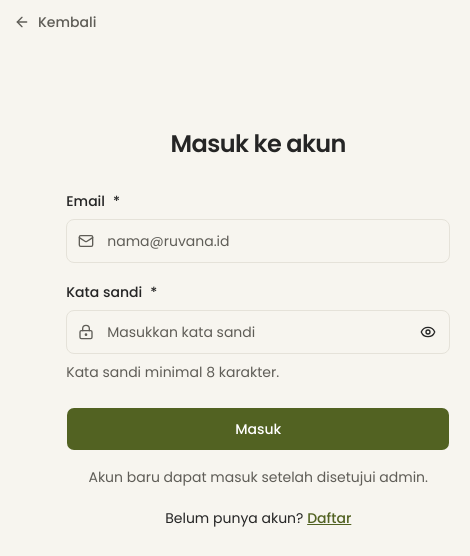
Scenario: menolak kata sandi multibyte yang kurang dari 8 byte sebelum request login
The image size is (470, 556).
Type "ayu@kampus.ac.id" into the field labelled "Email *" at (258, 241), box [66,219,450,263]
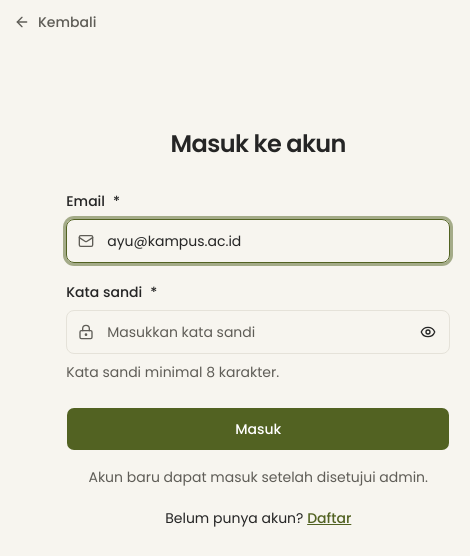
Type "ééé" into the password field labelled "Kata sandi *" at (258, 332), box [66,310,450,354]
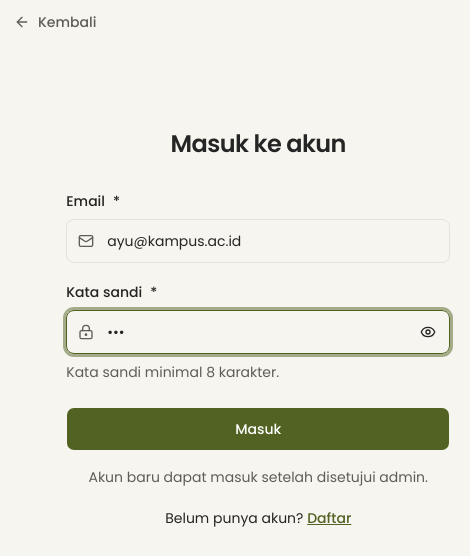
Click the button "Masuk" at (258, 429), box [66,407,450,451]
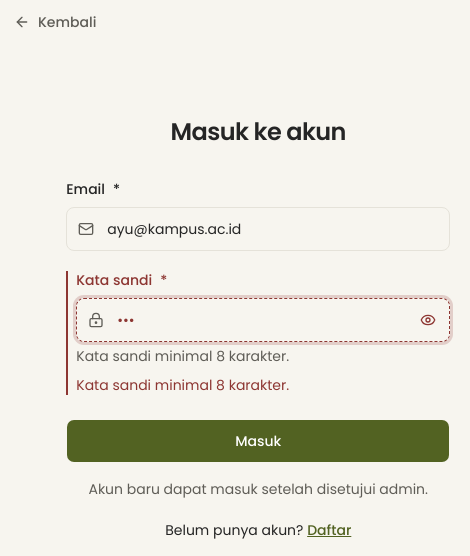
Expected: the message reads "Kata sandi minimal 8 karakter.", [76,375,289,395]
